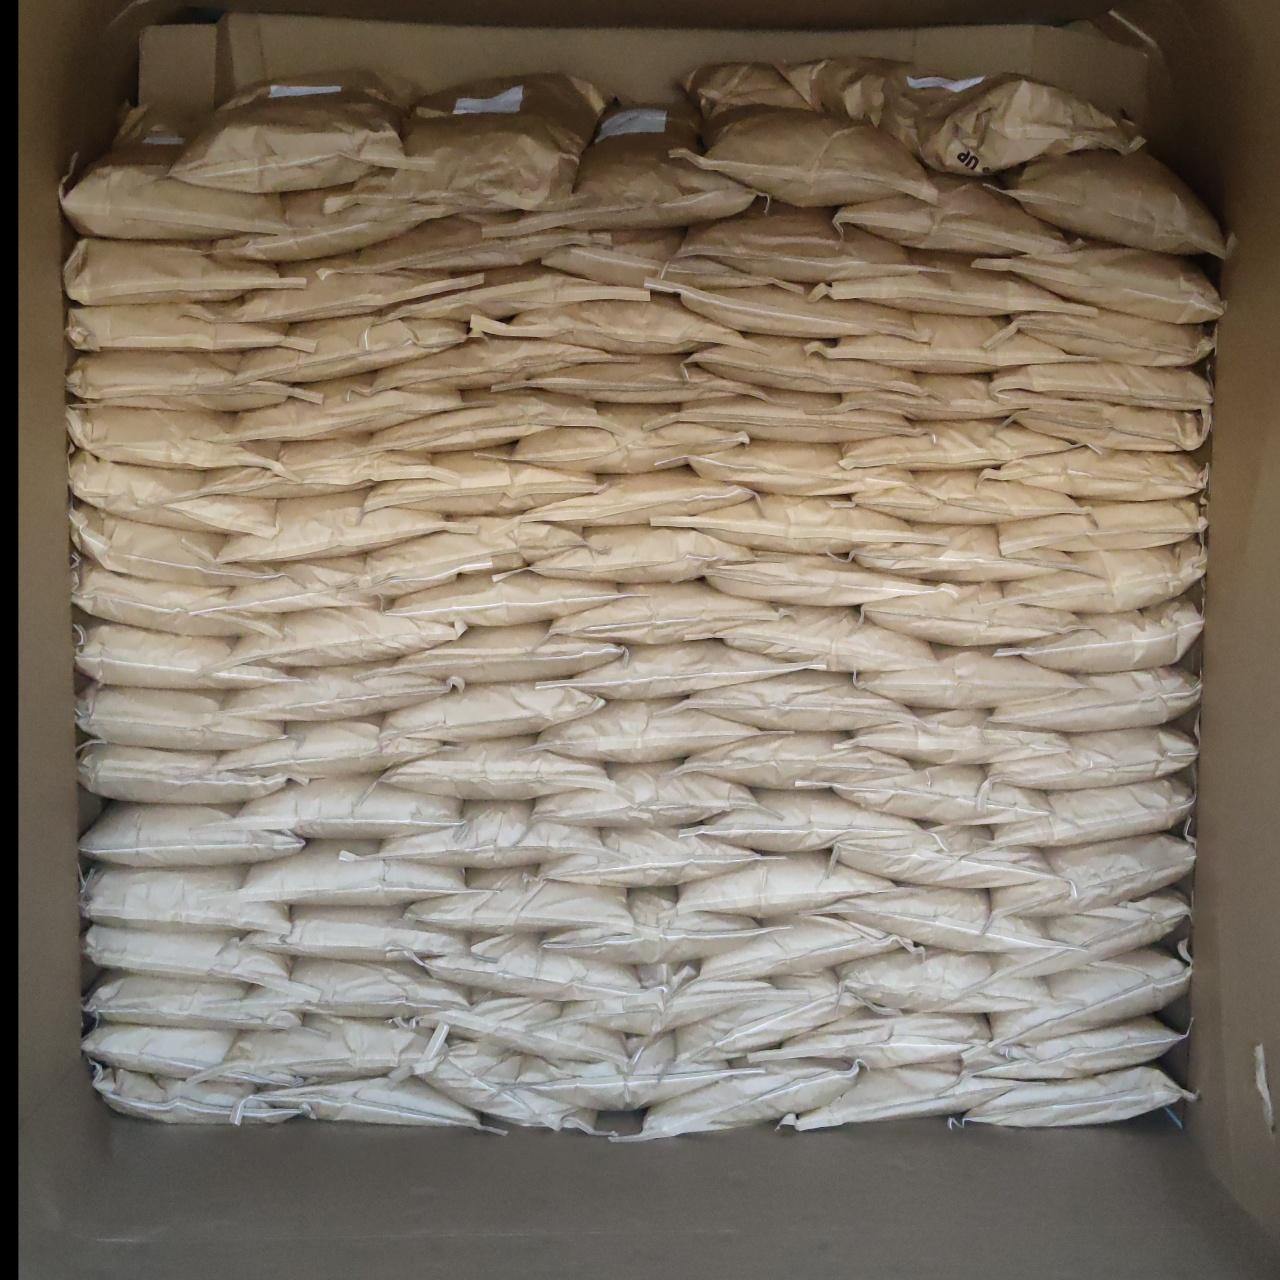sack: (346, 74, 614, 215), (840, 60, 1130, 173), (504, 105, 756, 230), (173, 79, 408, 190), (998, 150, 1230, 258), (697, 110, 932, 206), (62, 142, 284, 238), (838, 172, 1070, 260), (992, 946, 1190, 1046), (810, 250, 1092, 318), (976, 240, 1223, 318), (645, 277, 930, 343), (676, 971, 884, 1062), (406, 1036, 600, 1133), (680, 200, 910, 280), (358, 516, 583, 597), (992, 890, 1190, 980), (542, 230, 806, 297), (222, 254, 482, 322), (70, 450, 274, 535), (210, 186, 440, 260), (992, 835, 1194, 918), (636, 1064, 862, 1138), (72, 502, 274, 583), (544, 888, 762, 962), (222, 492, 458, 560), (383, 264, 651, 324), (184, 438, 448, 498), (802, 886, 1050, 949), (522, 1034, 728, 1110), (560, 964, 790, 1032), (198, 1016, 444, 1080), (812, 314, 1073, 374), (74, 560, 278, 636), (779, 1064, 1014, 1130), (668, 852, 894, 920), (682, 790, 930, 852), (469, 298, 740, 354), (66, 238, 300, 302), (372, 390, 614, 452), (240, 314, 462, 382), (365, 450, 598, 515), (512, 406, 744, 470), (996, 598, 1201, 670), (952, 1065, 1194, 1126), (416, 996, 629, 1065), (546, 642, 812, 697), (380, 736, 612, 798), (835, 826, 1065, 888), (82, 864, 286, 934), (230, 376, 459, 438), (1000, 540, 1206, 610), (68, 402, 278, 470), (660, 496, 922, 550), (994, 776, 1194, 846), (536, 762, 754, 826), (382, 802, 600, 866), (408, 869, 629, 932), (234, 776, 459, 838), (697, 918, 914, 982), (515, 468, 753, 526), (240, 840, 464, 903), (80, 804, 302, 866), (842, 948, 1060, 1012), (552, 583, 778, 644), (648, 388, 915, 440), (983, 726, 1196, 790), (248, 1076, 502, 1130), (748, 1013, 990, 1069), (424, 937, 648, 998), (79, 620, 286, 686), (218, 719, 444, 778), (536, 828, 764, 886), (79, 685, 282, 750), (232, 608, 464, 666), (374, 212, 606, 270), (536, 700, 758, 760), (992, 666, 1198, 730), (719, 608, 932, 670), (94, 1064, 306, 1126), (972, 1016, 1184, 1078), (856, 646, 1076, 706), (68, 352, 292, 410), (850, 524, 1082, 580), (84, 1024, 298, 1085), (392, 624, 622, 680), (688, 334, 918, 390), (864, 584, 1080, 644), (224, 663, 456, 719), (672, 672, 908, 726), (535, 526, 760, 583), (84, 972, 300, 1030), (678, 734, 912, 788), (384, 682, 602, 740), (80, 742, 288, 802), (248, 958, 470, 1014), (492, 356, 764, 402), (84, 926, 292, 986), (376, 336, 606, 390), (386, 572, 629, 622), (836, 710, 1062, 764), (835, 764, 1046, 822), (706, 552, 940, 604), (240, 906, 470, 958), (840, 420, 1074, 470), (1010, 308, 1214, 366), (982, 450, 1206, 501), (856, 472, 1084, 522), (692, 442, 910, 493), (68, 302, 297, 350), (1000, 501, 1204, 552), (1008, 400, 1210, 450), (990, 362, 1212, 408), (226, 554, 384, 612), (840, 374, 1022, 420)
